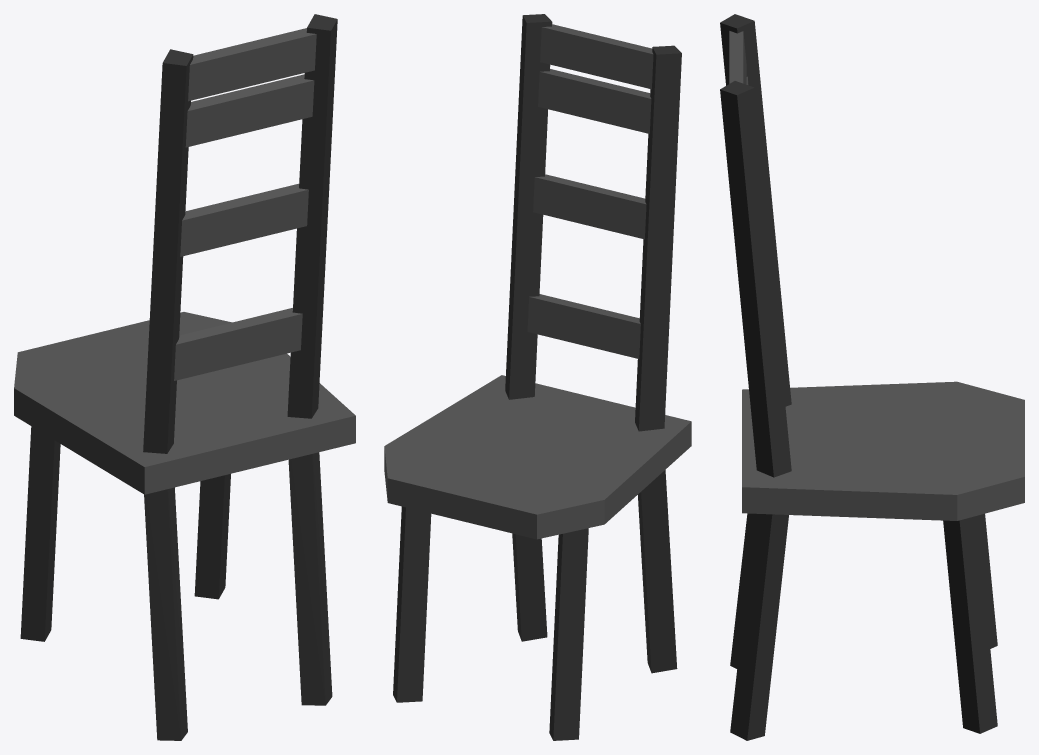
The model's file is chair_C.FBX.
3 renders of one model, left to right at view 1: azimuth 30°, elevation 25°; view 2: azimuth 150°, elevation 25°; view 3: azimuth 270°, elevation 25°, orthographic. The views are drawn at different scales.
Visible parts, largest first — view 1: chair_C; view 2: chair_C; view 3: chair_C.
Boxes of the visible parts, bbox=[...] form: chair_C: bbox=[14, 14, 355, 740]; chair_C: bbox=[384, 14, 691, 740]; chair_C: bbox=[720, 14, 1024, 740].
Size of the model in its own units: 20.29 by 54.15 by 23.08.
